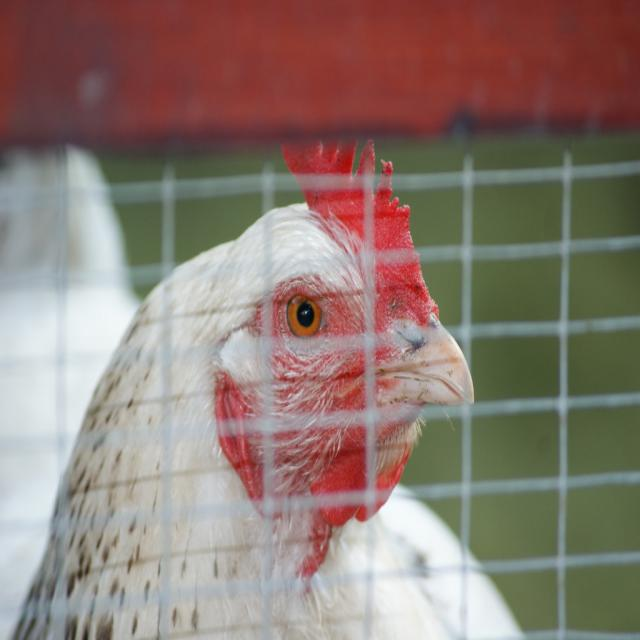Chicken: (6, 123, 522, 639)
